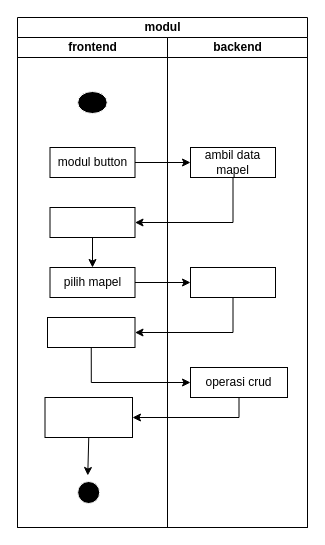
The diagram is 325 pixels wide and 545 high, and some of its shapes have lost their labels. Here are the shapes that lost their labels. From the top down, the box of each, then its label:
(49, 206, 135, 238): data mapel
(190, 266, 276, 298): ambil data modul
(46, 316, 135, 348): manajemen data modul
(44, 396, 132, 438): tampilan modul
